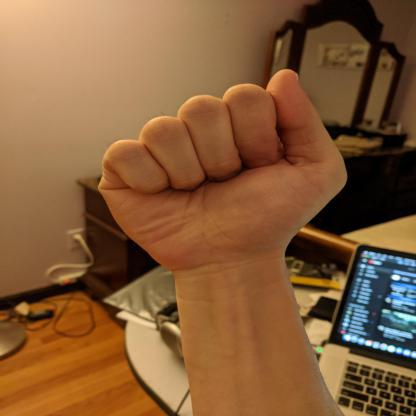A: (98, 69, 347, 324), (98, 69, 347, 281)
